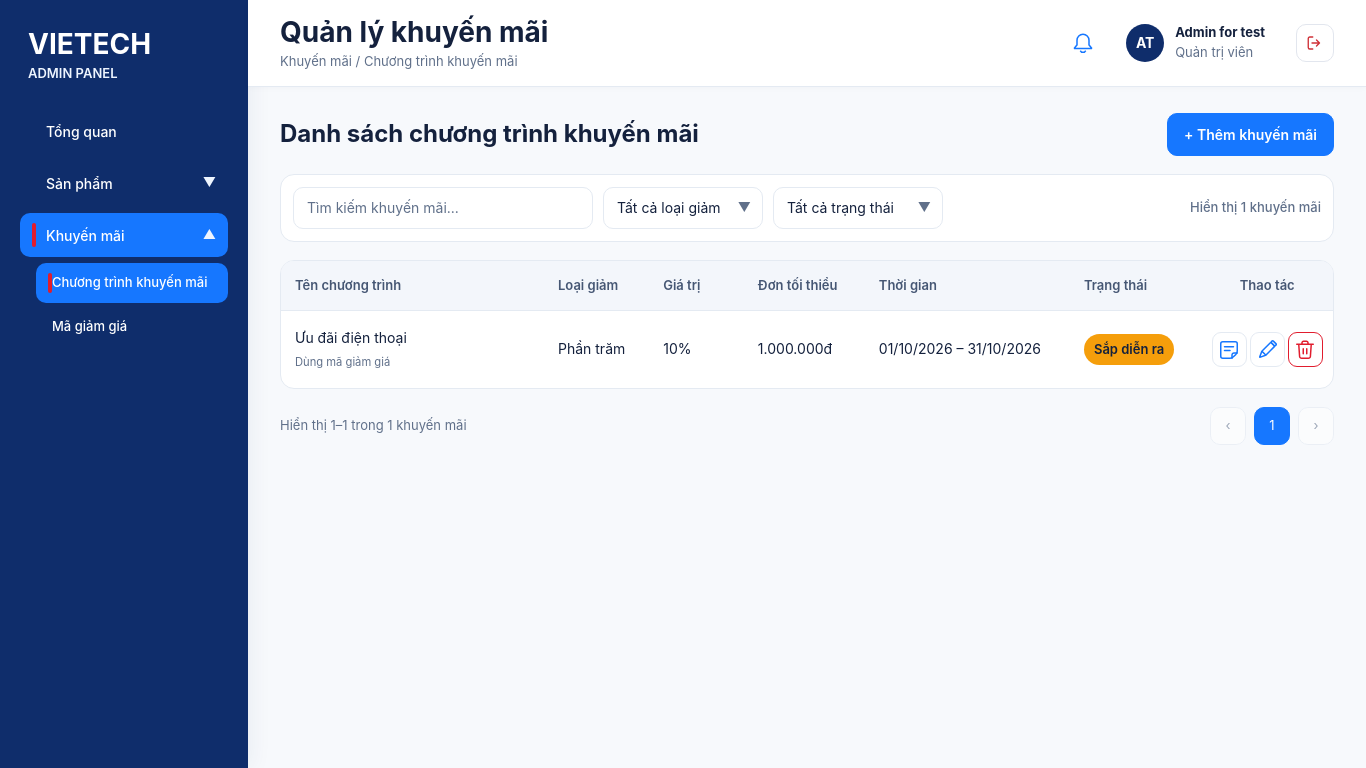
Scenario: scheduled edit saves changed scope and status in a single request
Click the button named "Sửa Ưu đãi điện thoại" at {"x": 1267, "y": 350}, box [1250,332,1285,367]
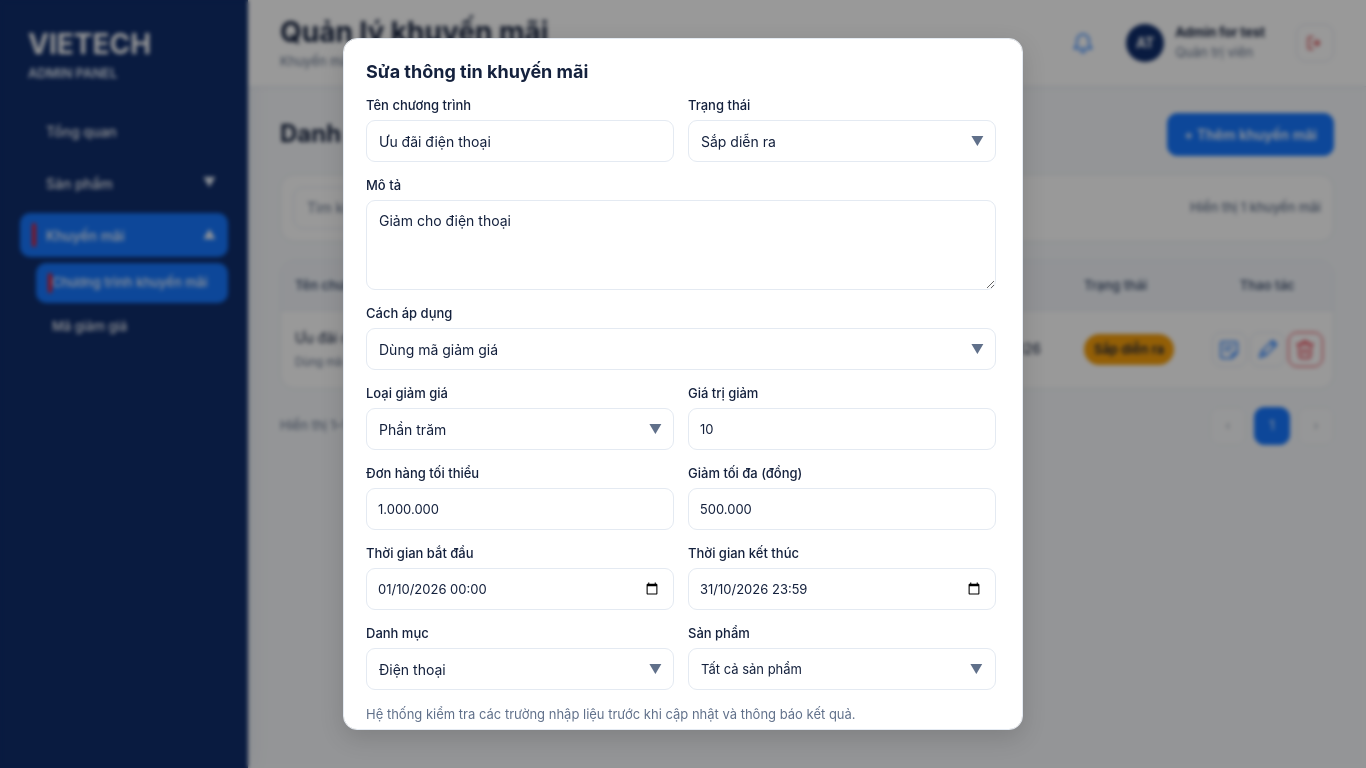
Expected: the field showing "Ưu đãi điện thoại" is shown, [366,120,674,162]
Select "Laptop" in the dropdown named "Danh mục áp dụng" at {"x": 520, "y": 669}, box [366,648,674,690]
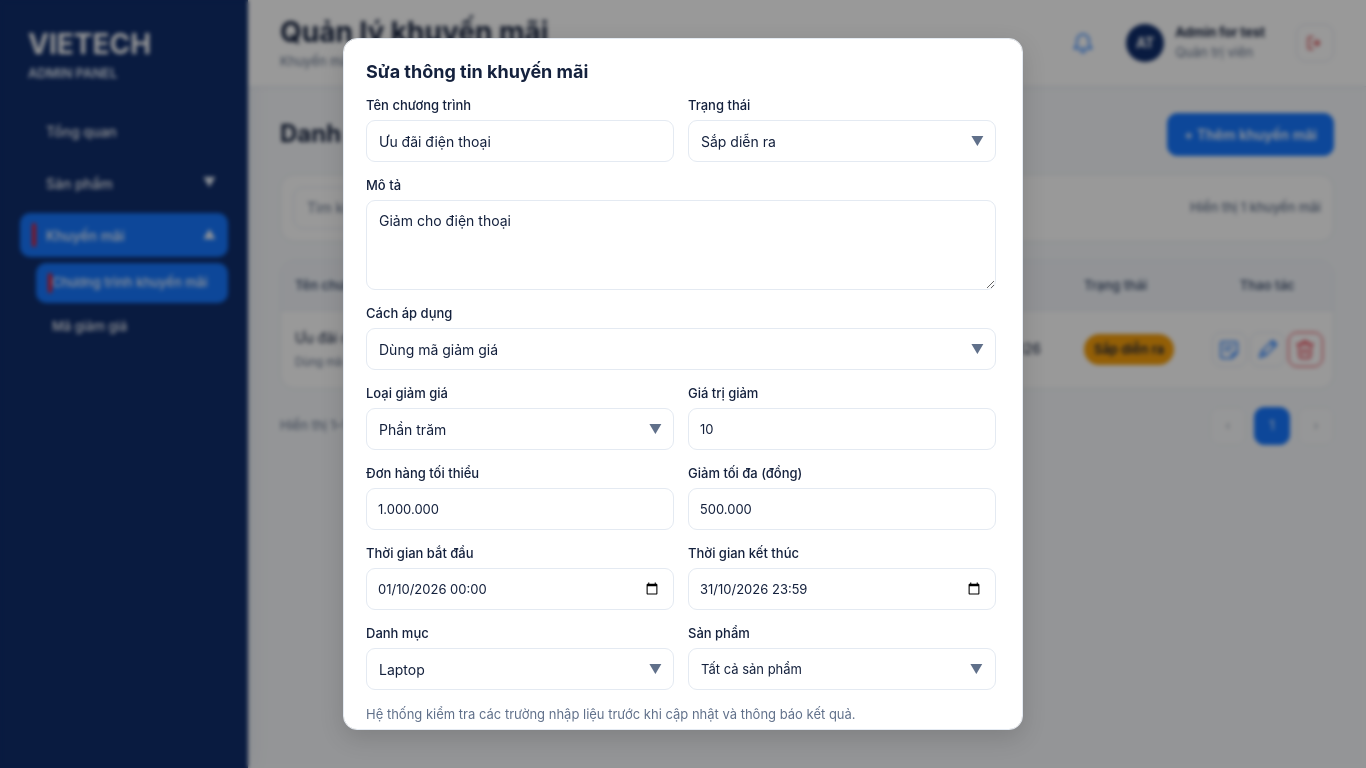
Select "Đang diễn ra" in the dropdown labelled "Trạng thái" at {"x": 842, "y": 141}, box [688,120,996,162]
(page scrolled)
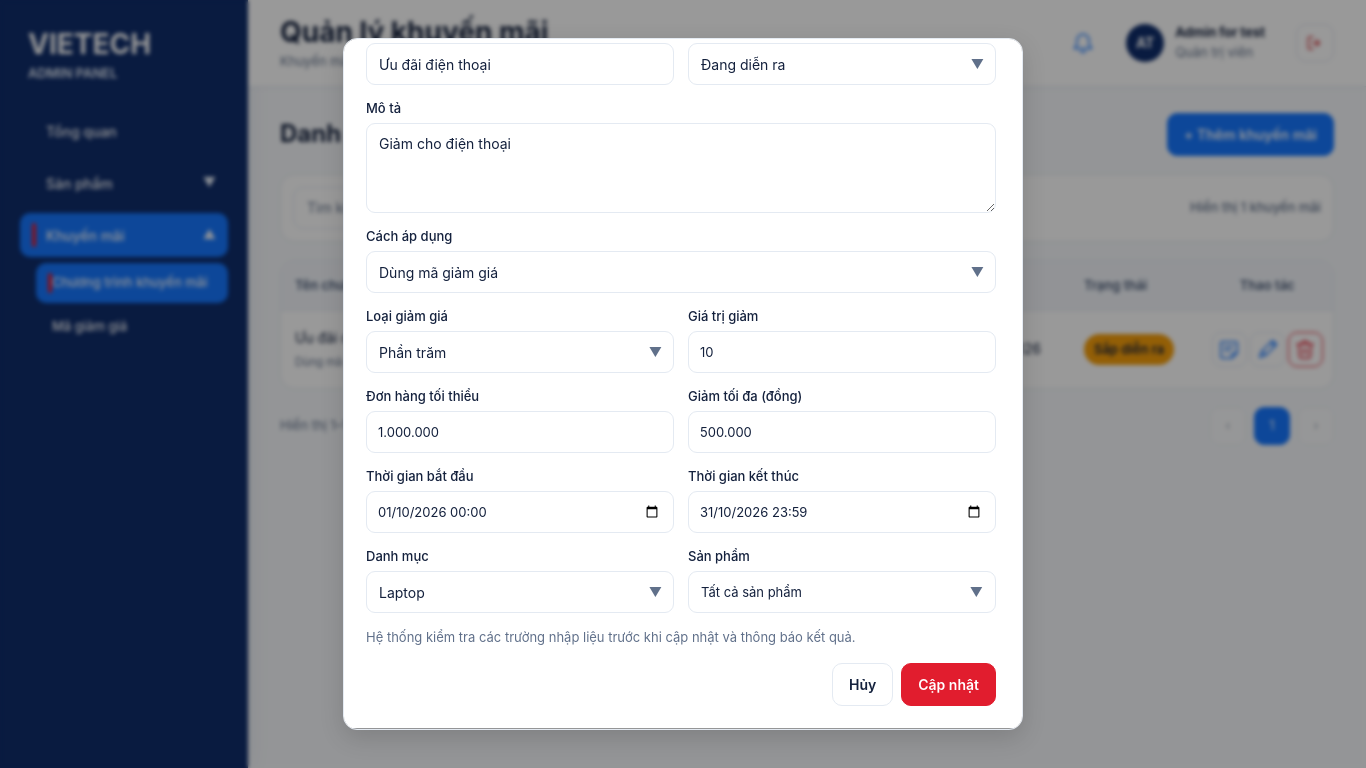
Click the button "Cập nhật" at {"x": 949, "y": 684}, box [901,663,996,706]
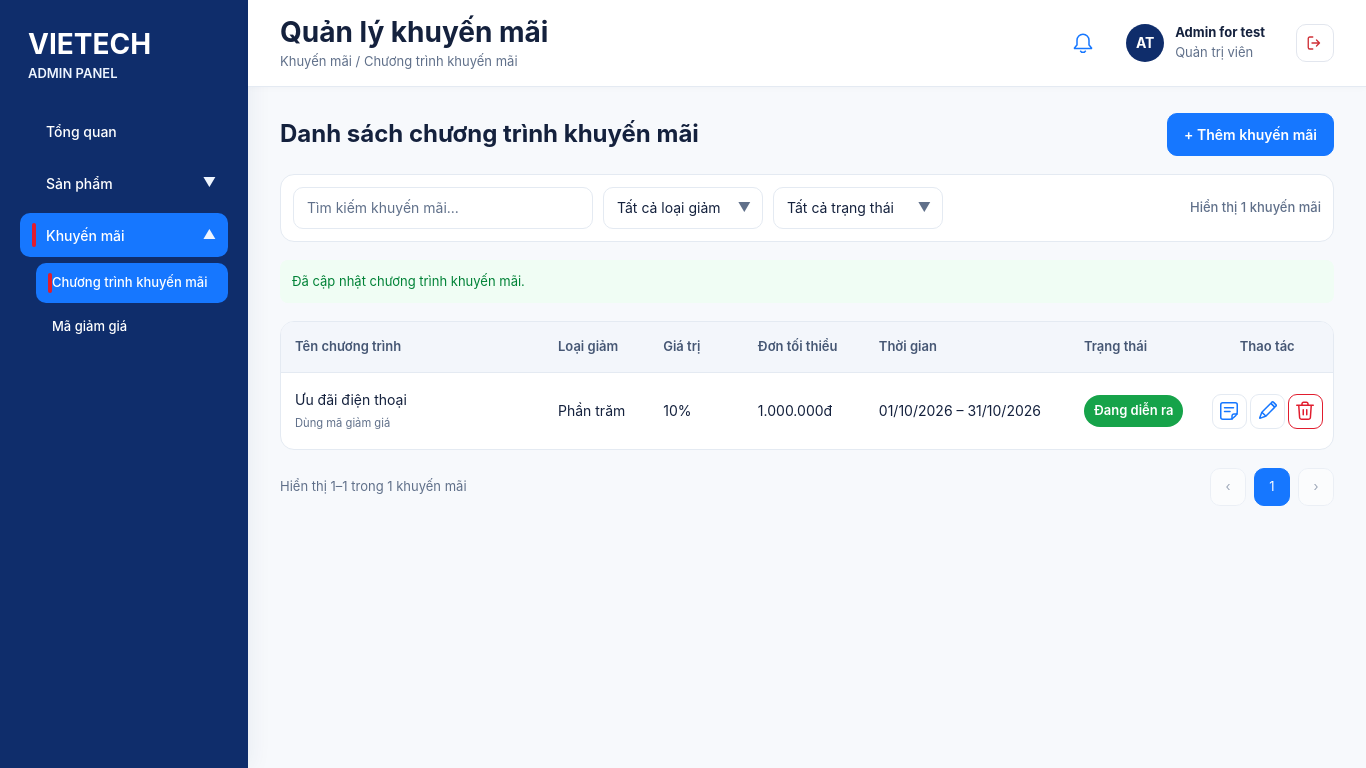
Expected: the text "Đã cập nhật chương trình khuyến mãi." is shown, [280,260,1334,303]
Expected: the text "Đang diễn ra" is shown, [1084,395,1184,427]
